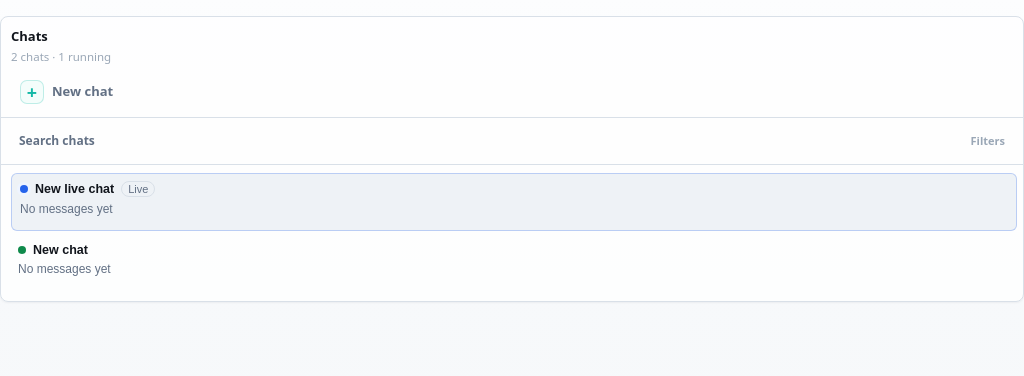
it: SessionList › keeps multi-chat search quiet until the user asks for it
Expected: the text "Filters" is shown, [970,132,1005,149]
Expected: the text "2/2" is not shown
Click the button "Search chats Filters": (57, 140) [11,126,1013,156]
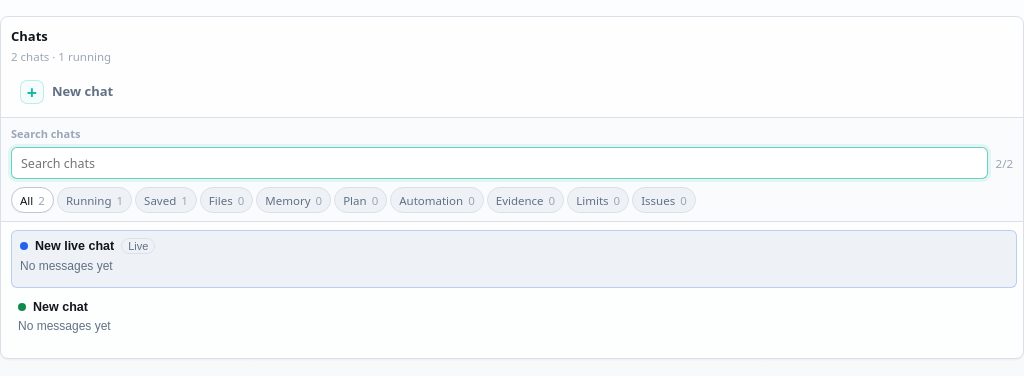
Now the text "2/2" is shown, box [996,155,1013,172]
Now the button "Saved 1" is shown, box [135,187,197,213]
Now the field with test id "session-search" showing "Search chats 2/2" is shown, box [11,147,988,179]
